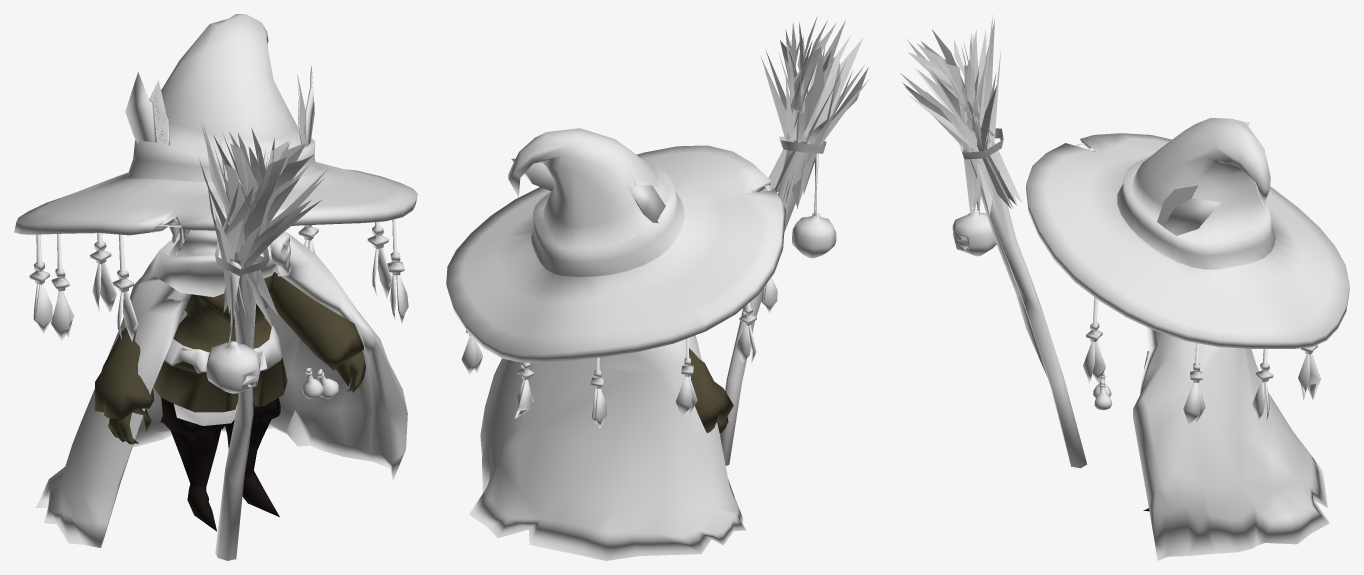
The model's file is WitchAccesoire.fbx.
The picture shows the model from 3 angles, left to right: view 1: azimuth 30°, elevation 25°; view 2: azimuth 150°, elevation 25°; view 3: azimuth 270°, elevation 25°; orthographic projection. The views are drawn at different scales.
Visible parts, largest first — view 1: withchat.001, cloaknew, LUKABASE, broom, Sphere; view 2: withchat.001, cloaknew, broom, LUKABASE; view 3: withchat.001, cloaknew, broom.
Part boxes in pixels (x1=…): withchat.001: x1=14, y1=14, x2=417, y2=341; cloaknew: x1=36, y1=230, x2=407, y2=547; LUKABASE: x1=94, y1=272, x2=365, y2=531; broom: x1=199, y1=122, x2=328, y2=560; Sphere: x1=302, y1=367, x2=338, y2=398; withchat.001: x1=446, y1=128, x2=785, y2=428; cloaknew: x1=469, y1=335, x2=745, y2=560; broom: x1=719, y1=15, x2=869, y2=465; LUKABASE: x1=689, y1=348, x2=733, y2=433; withchat.001: x1=1026, y1=118, x2=1349, y2=424; cloaknew: x1=1133, y1=327, x2=1329, y2=560; broom: x1=900, y1=15, x2=1087, y2=468.
Bounding box in the file's own units: 101 × 133 × 127.
